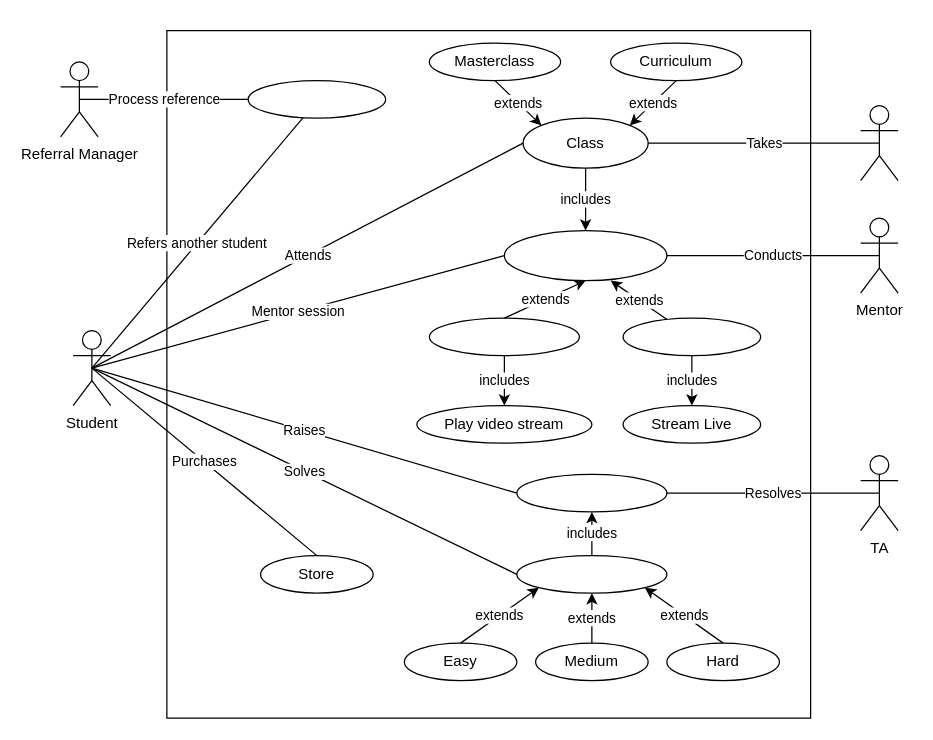
Image size: 933x740. Some labels were removed from this diagram. Here are the shapes that lost their labels. From the top down, the centre of each, then its label:
At (x=316, y=98): "Give Reference".
At (x=878, y=142): "Instructor".
At (x=585, y=255): "Session".
At (x=503, y=336): "Recorded".
At (x=691, y=336): "Live".
At (x=591, y=492): "TA Request".
At (x=591, y=573): "Assignments".
